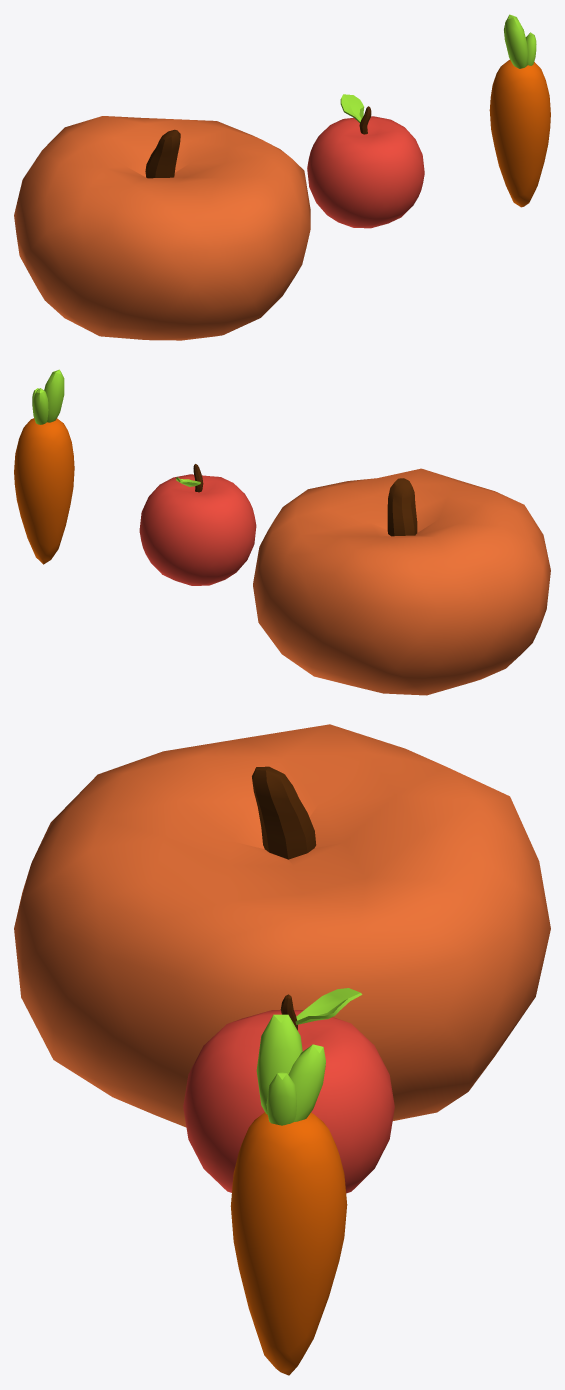
Rendered from vegetables.fbx.
3 views of the same model, one above another, from view 1: azimuth 30°, elevation 25°; view 2: azimuth 150°, elevation 25°; view 3: azimuth 270°, elevation 25° (orthographic). The views are drawn at different scales.
Visible parts, largest first — view 1: pumpkin, apple, carrot; view 2: pumpkin, apple, carrot; view 3: pumpkin, carrot, apple.
Part boxes in pixels (x1=…): pumpkin: x1=14, y1=116, x2=310, y2=340; apple: x1=307, y1=94, x2=424, y2=228; carrot: x1=489, y1=14, x2=550, y2=207; pumpkin: x1=253, y1=468, x2=550, y2=695; apple: x1=139, y1=464, x2=256, y2=585; carrot: x1=14, y1=369, x2=74, y2=564; pumpkin: x1=14, y1=724, x2=550, y2=1127; carrot: x1=230, y1=1014, x2=347, y2=1375; apple: x1=183, y1=988, x2=394, y2=1193.
Size of the model in its own units: 1018 by 410 by 507.
